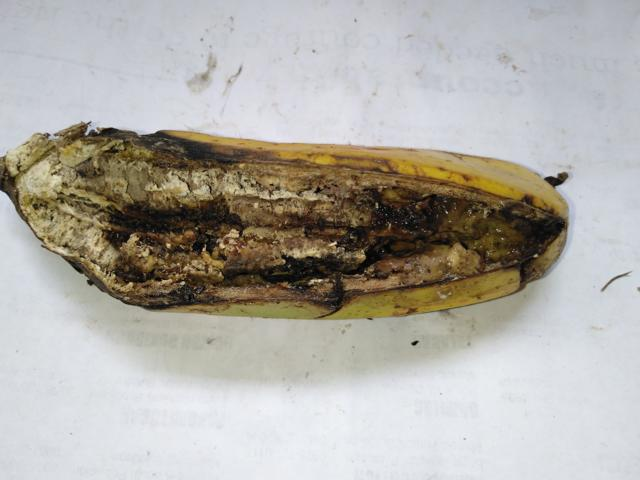rotten: (0, 111, 563, 314)
